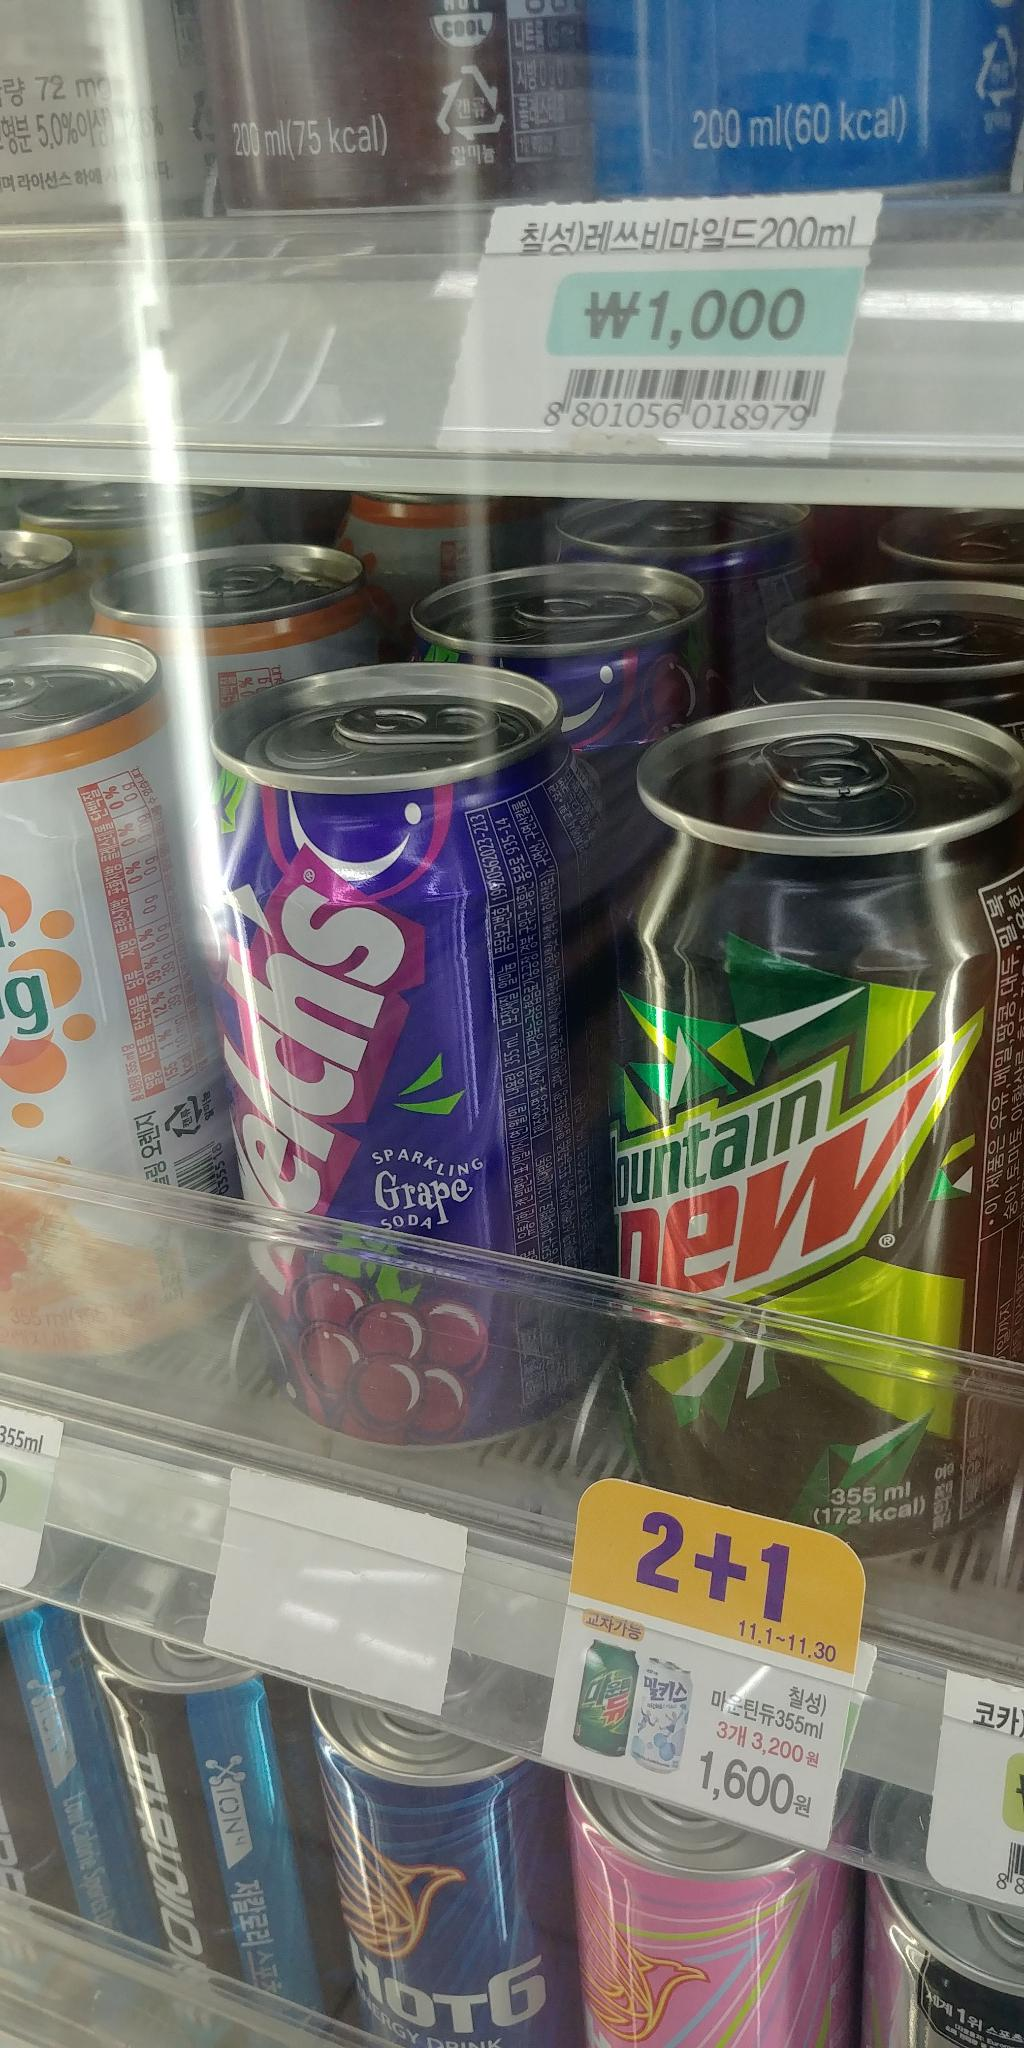welchs_grape: (185, 643, 649, 1476)
